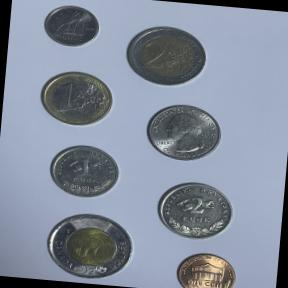coin: (41, 208, 141, 288), (119, 20, 212, 94), (31, 65, 120, 136), (152, 176, 241, 246), (140, 98, 230, 167), (37, 0, 105, 53), (169, 248, 241, 288)
